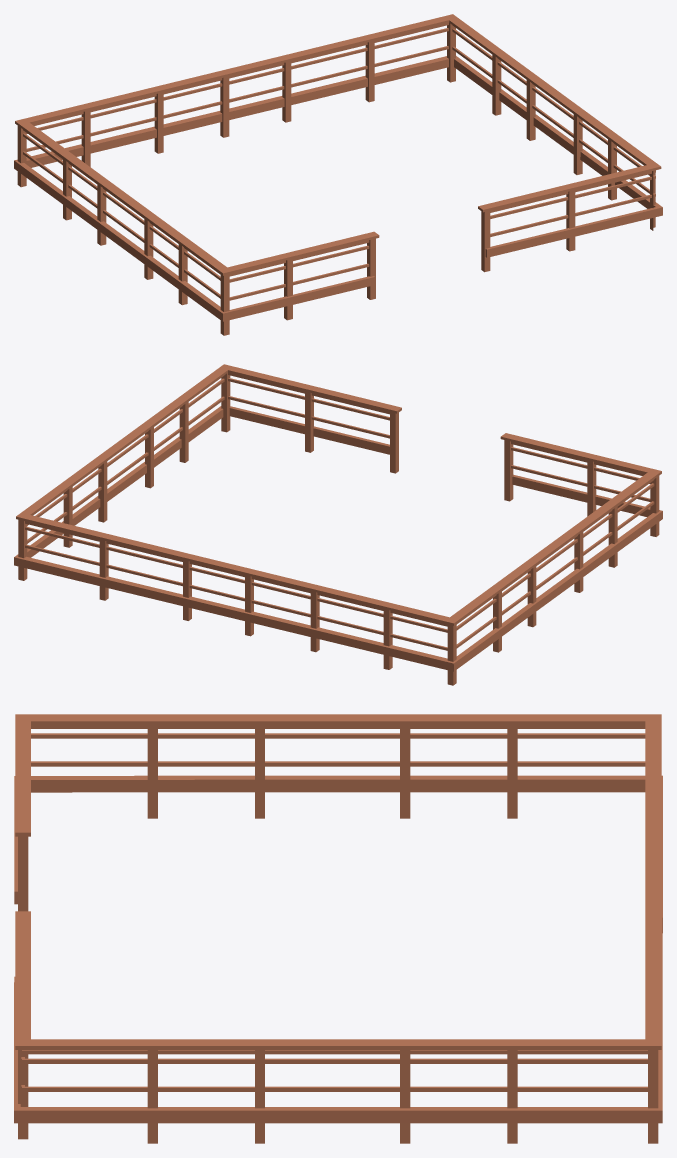
Rendered from Testhouse_Foundation_FenceSmall.fbx.
The picture shows the model from 3 angles, top to bottom: view 1: azimuth 30°, elevation 25°; view 2: azimuth 150°, elevation 25°; view 3: azimuth 270°, elevation 25°; orthographic projection. The views are drawn at different scales.
Parts seen in each view (by area): view 1: Testhouse_Foundation_FenceSmall; view 2: Testhouse_Foundation_FenceSmall; view 3: Testhouse_Foundation_FenceSmall.
Part boxes in pixels (bbox=[...]): Testhouse_Foundation_FenceSmall: bbox=[14, 14, 662, 335]; Testhouse_Foundation_FenceSmall: bbox=[14, 364, 662, 685]; Testhouse_Foundation_FenceSmall: bbox=[14, 714, 662, 1143].
Bounding box in the file's own units: 301 × 248 × 41.5.
